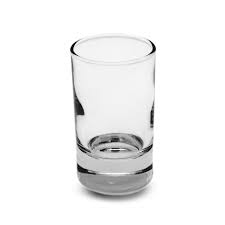glass: (67, 29, 160, 200)
